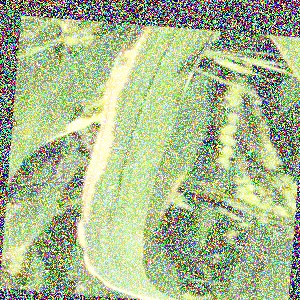Leaf_Blast: (85, 25, 169, 271)
